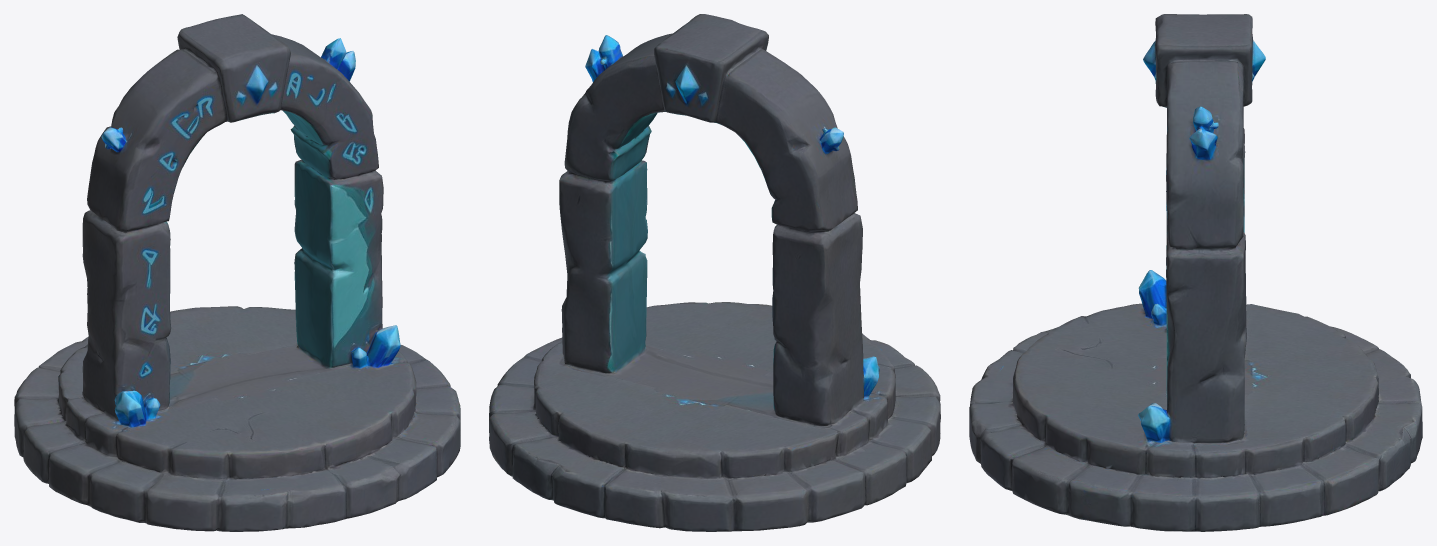
Rendered from varco_portal.glb.
The picture shows the model from 3 angles, left to right: view 1: azimuth 30°, elevation 25°; view 2: azimuth 150°, elevation 25°; view 3: azimuth 270°, elevation 25°; orthographic projection. The views are drawn at different scales.
Parts seen in each view (by area): view 1: texture_mapping; view 2: texture_mapping; view 3: texture_mapping.
Boxes of the visible parts, <box> form: texture_mapping: <box>14,14,460,531</box>; texture_mapping: <box>489,14,940,531</box>; texture_mapping: <box>969,14,1422,531</box>.
Bounding box in the file's own units: 1 × 0.997 × 0.9988.
1 material, 1 textured.
